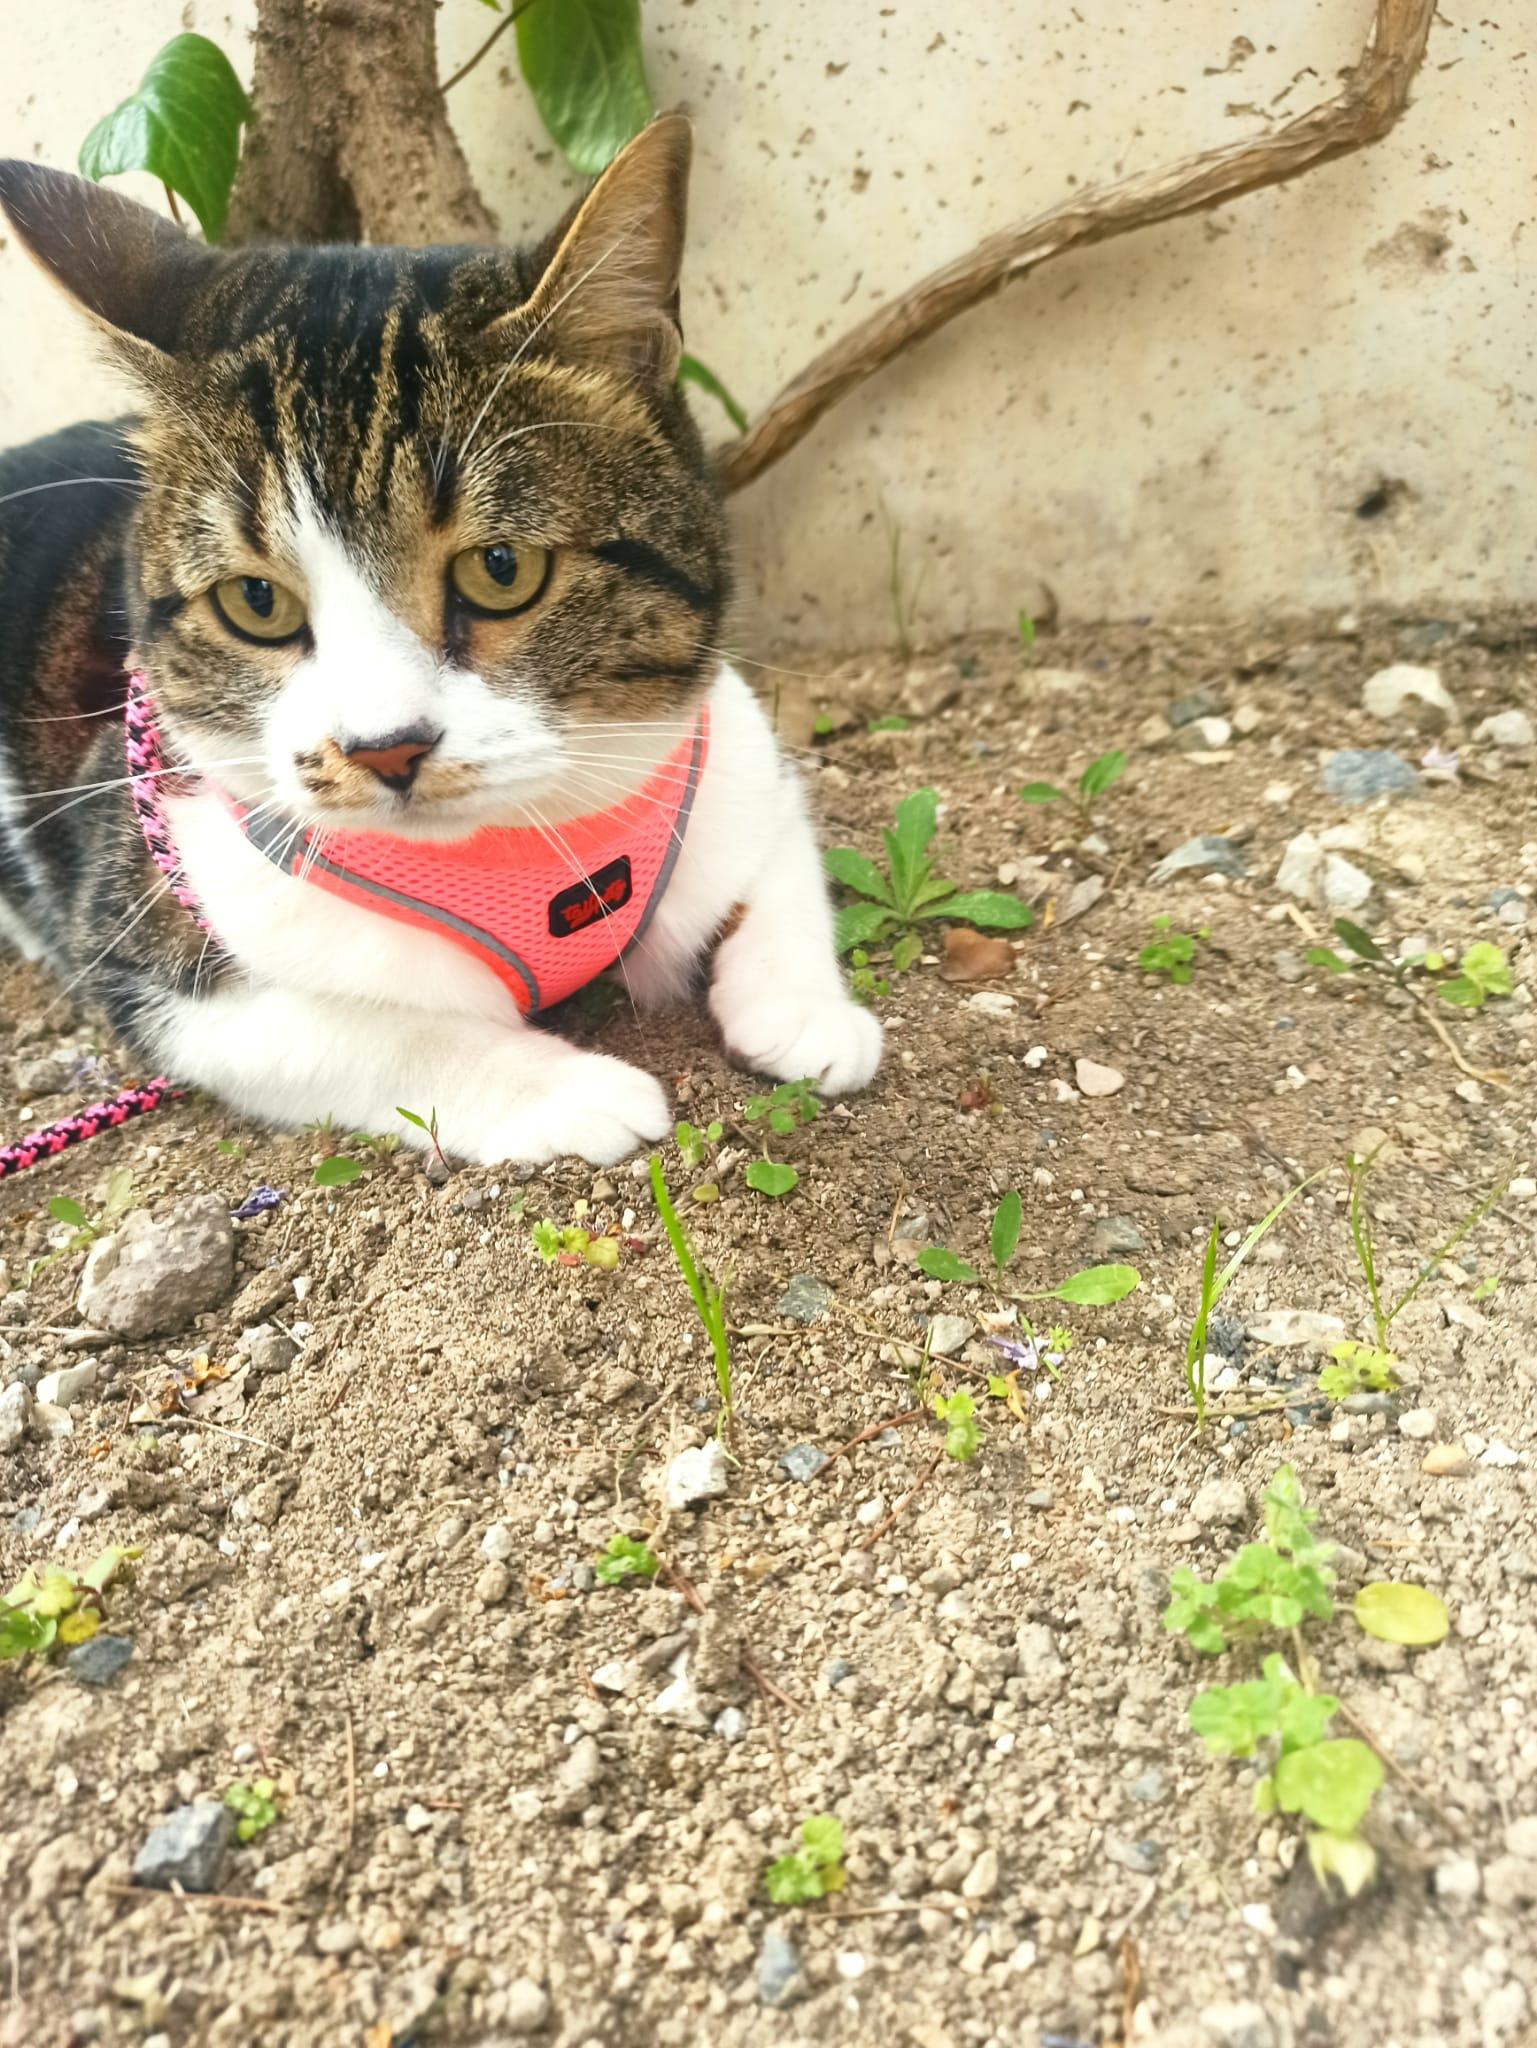kedo: (0, 87, 932, 1181)
